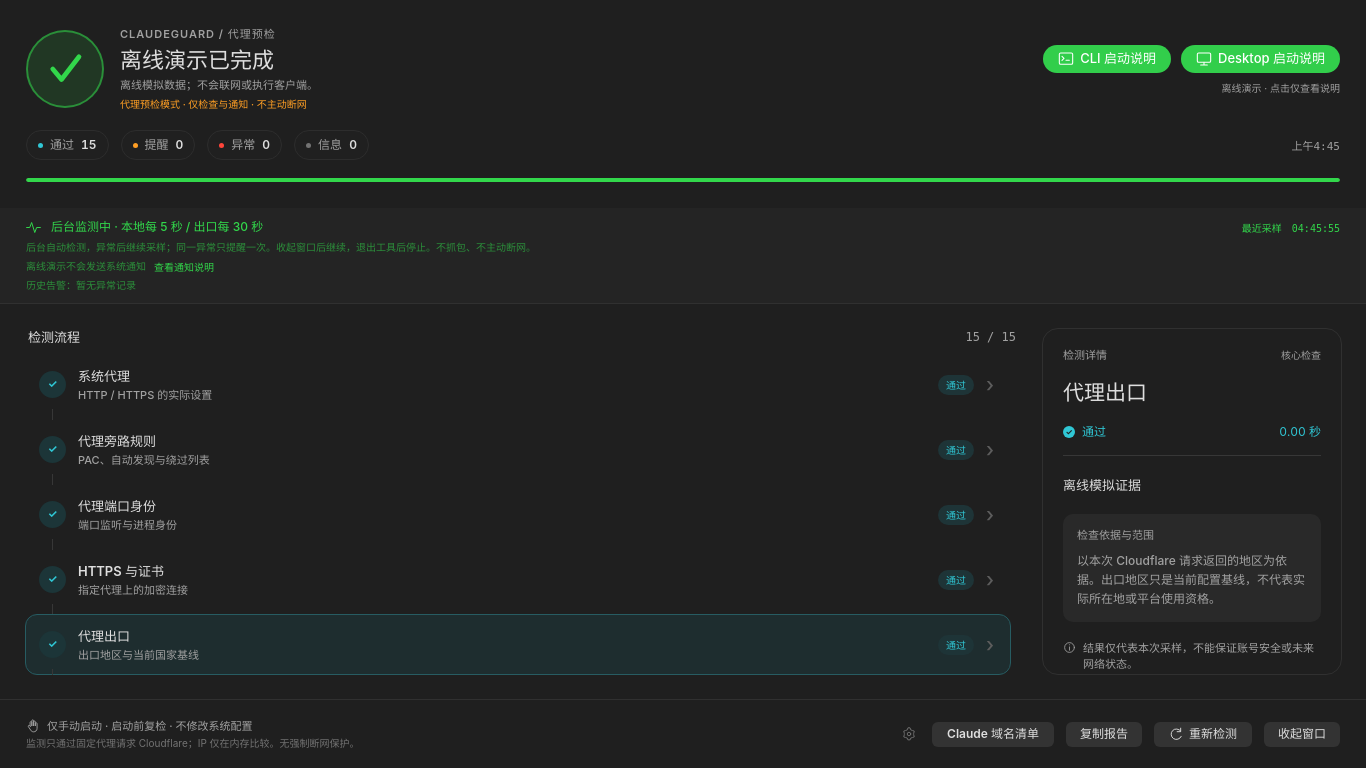
Test: copies a redacted report and confirms success
The width and height of the screenshot is (1366, 768).
Expected: the heading "离线演示已完成" is shown, [120,47,274,73]
Click the button "复制报告".
click(1104, 734)  # box [1066,722,1142,746]
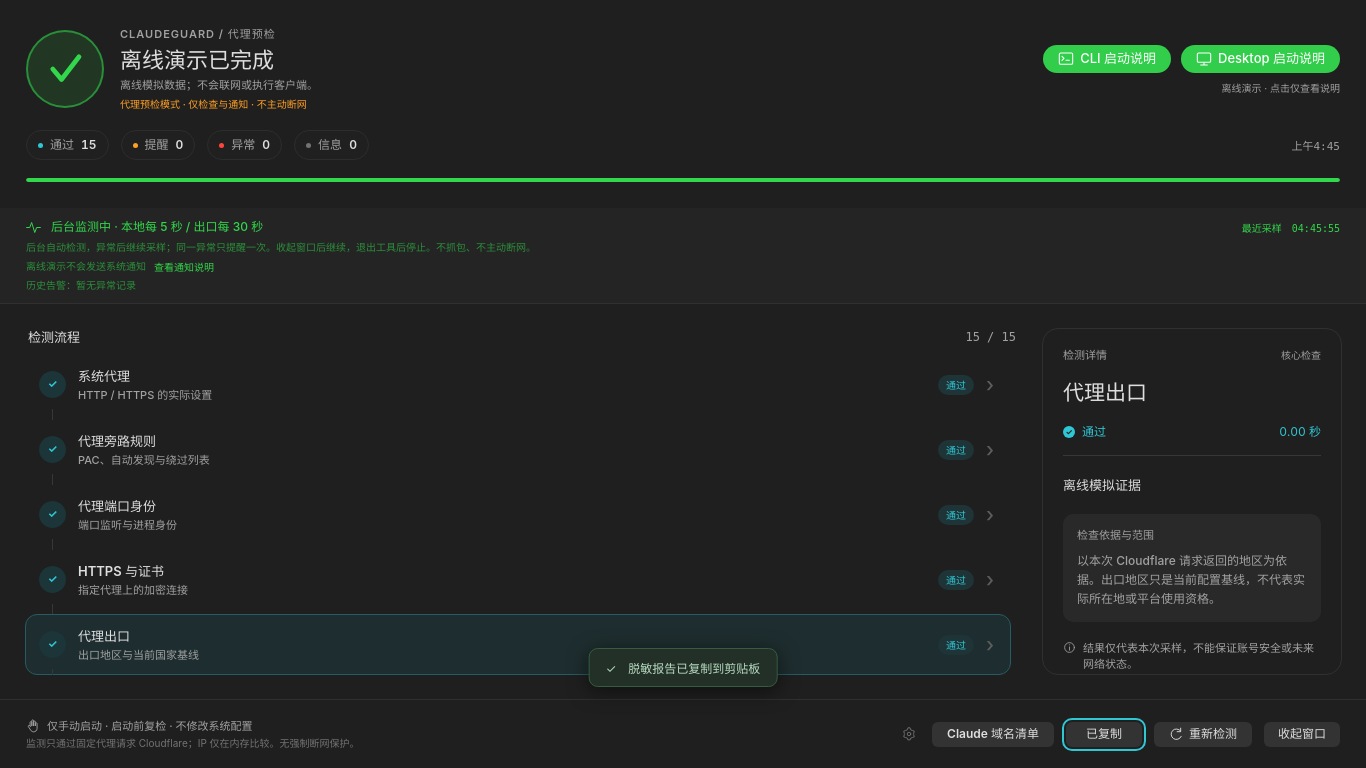
Result: the message shows "已复制到剪贴板" at [628,661,760,676]
